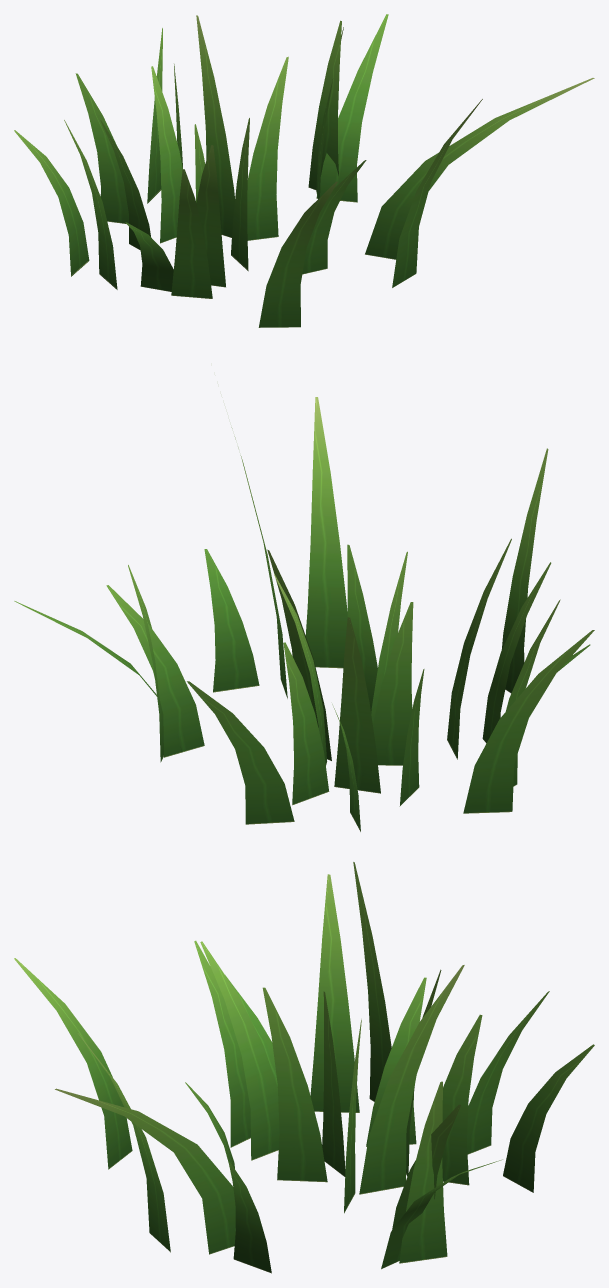
The model's file is grass_short.glb.
3 renders of one model, top to bottom at view 1: azimuth 30°, elevation 25°; view 2: azimuth 150°, elevation 25°; view 3: azimuth 270°, elevation 25°, orthographic. The views are drawn at different scales.
Visible parts, largest first — view 1: grass_short; view 2: grass_short; view 3: grass_short.
Boxes of the visible parts, x1,y1,x2,y2 form: grass_short: (14, 14, 594, 327); grass_short: (14, 397, 594, 831); grass_short: (14, 862, 594, 1273).
Bounding box in the file's own units: 0.9199 × 0.3844 × 0.8462.
1 material, 1 textured.
